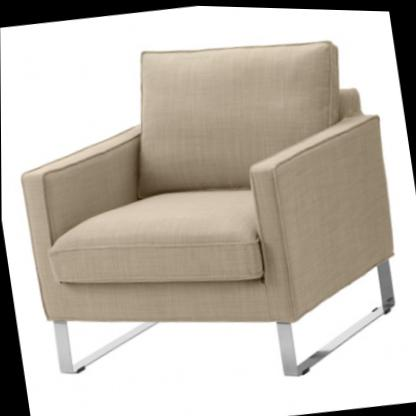Chair: (0, 9, 416, 414)
